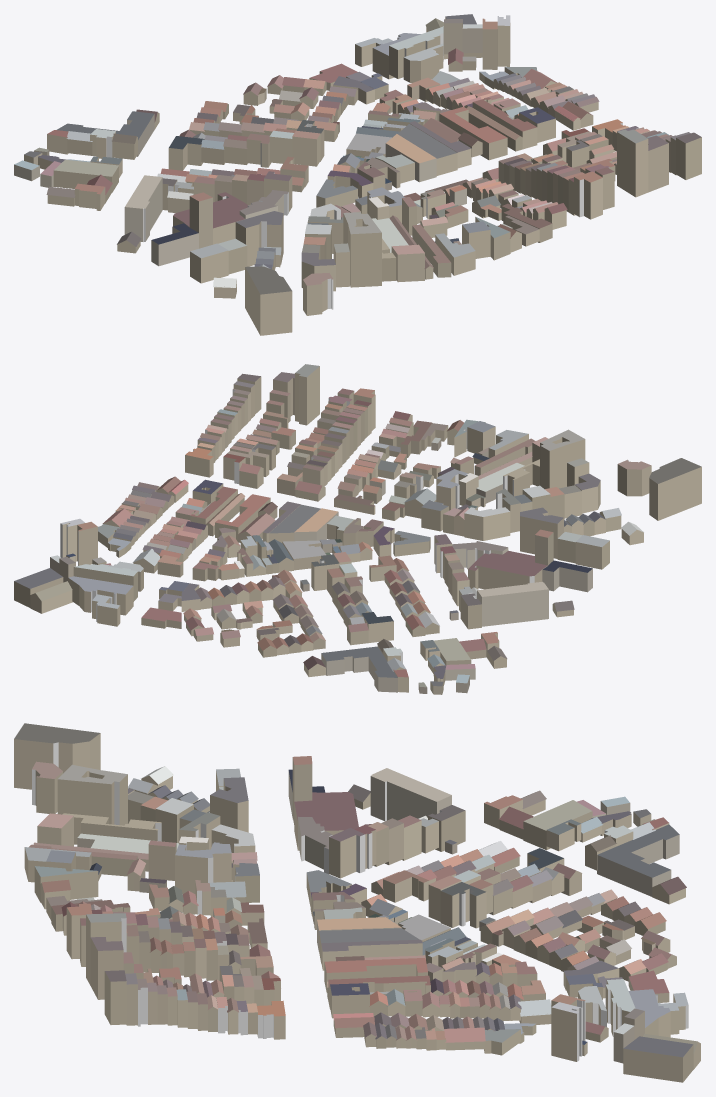
3 renders of one model, top to bottom at view 1: azimuth 30°, elevation 25°; view 2: azimuth 150°, elevation 25°; view 3: azimuth 270°, elevation 25°, orthographic. The views are drawn at different scales.
Visible parts, largest first — view 1: tuile; view 2: tuile; view 3: tuile.
Part boxes in pixels (left/top/right/bottom): tuile: left=14, top=14, right=701, bottom=335; tuile: left=14, top=364, right=701, bottom=694; tuile: left=14, top=723, right=700, bottom=1082.
Bounding box in the file's own units: 266 × 53.55 × 274.
